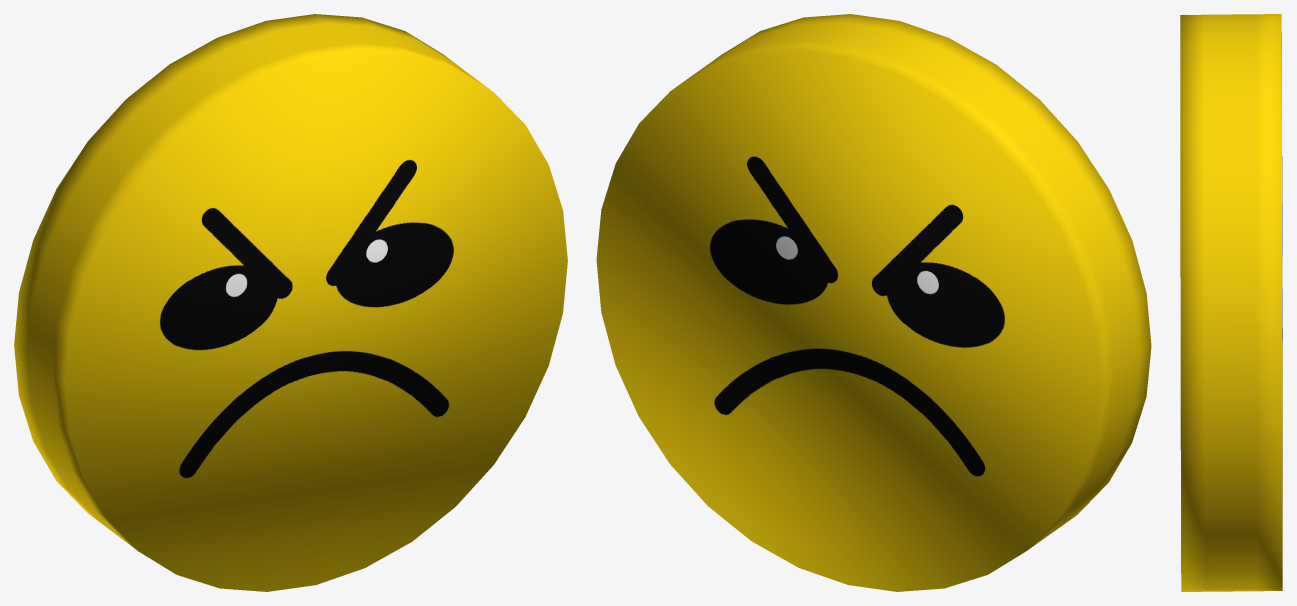
File: emotion5.gltf
3 renders of one model, left to right at view 1: azimuth 30°, elevation 25°; view 2: azimuth 150°, elevation 25°; view 3: azimuth 270°, elevation 25°, orthographic.
Parts seen in each view (by area): view 1: 5; view 2: 5; view 3: 5.
Part boxes in pixels (left/top/right/bottom): 5: left=14, top=14, right=567, bottom=591; 5: left=596, top=14, right=1151, bottom=591; 5: left=1180, top=14, right=1282, bottom=591.
Bounding box in the file's own units: 0.2522 × 0.2527 × 0.0448.
1 material, 1 textured.
